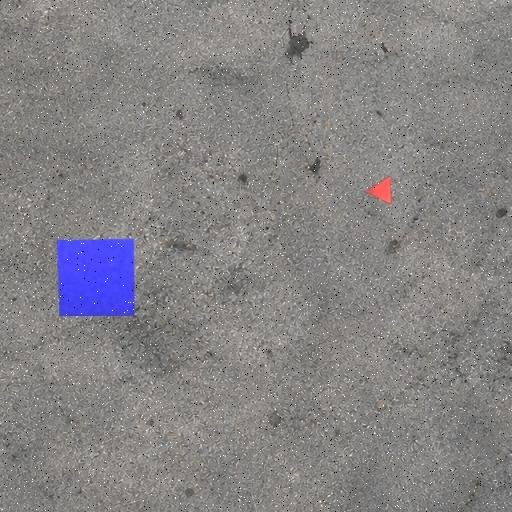BLUE_SQUARE: (57, 238, 134, 317)
